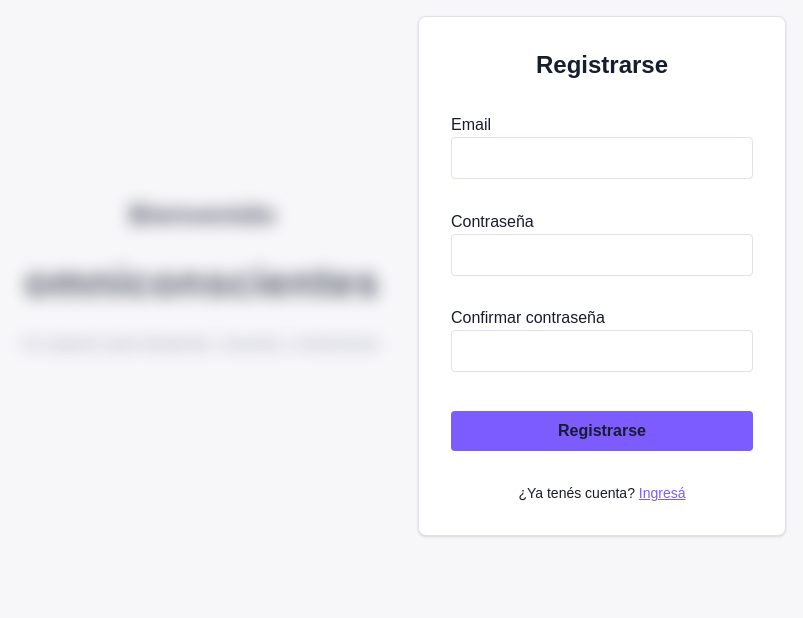
Test case: AuthForm › Register Form › should successfully register with valid data
Type "test@example.com" into the field with test id "email-input". click: (602, 158)
box: x1=451 y1=137 x2=753 y2=179
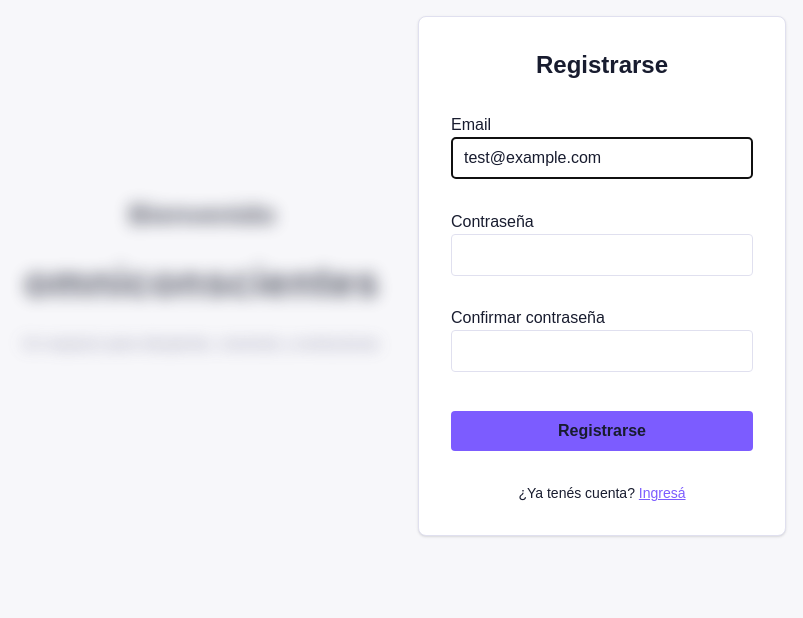
Type "password123" into the password field with test id "password-input". click: (602, 255)
box: x1=451 y1=234 x2=753 y2=276
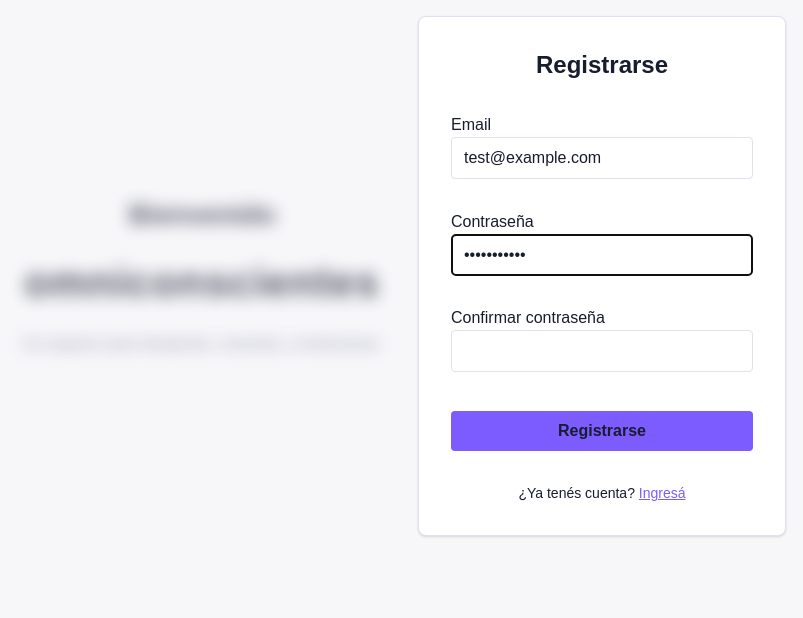
Type "password123" into the password field with test id "confirm-password-input". click: (602, 351)
box: x1=451 y1=330 x2=753 y2=372
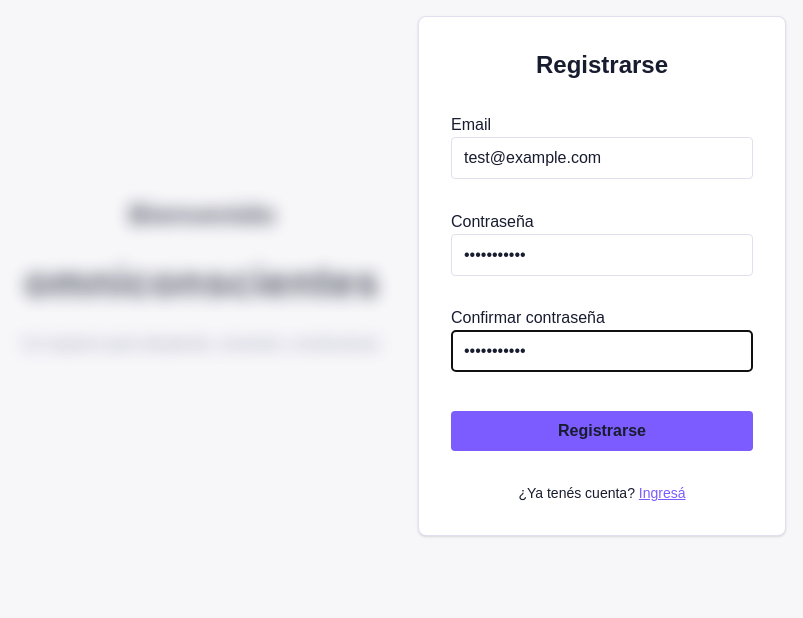
Click the button with test id "submit-button". click: (602, 431)
box: x1=451 y1=411 x2=753 y2=451
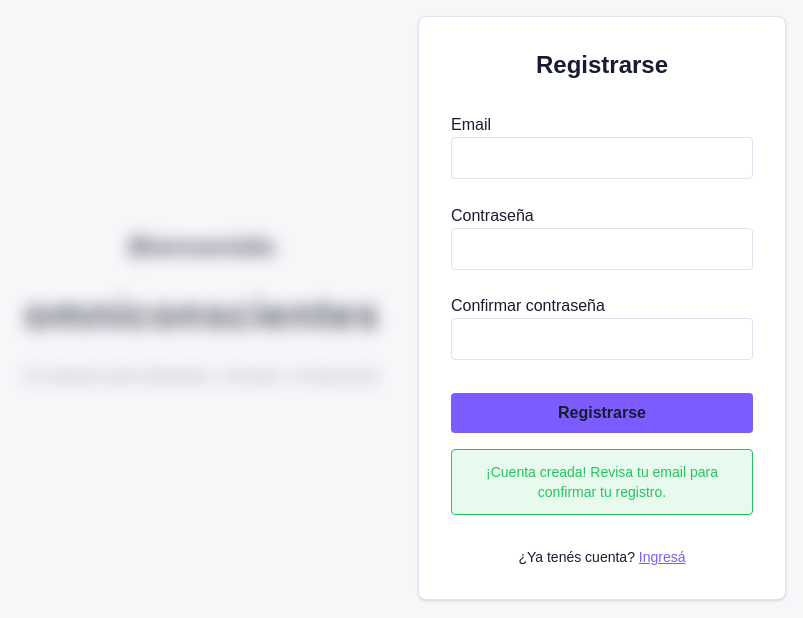
Expected: the text with test id "form-message" shows "¡Cuenta creada!", x1=486 y1=464 x2=718 y2=500
